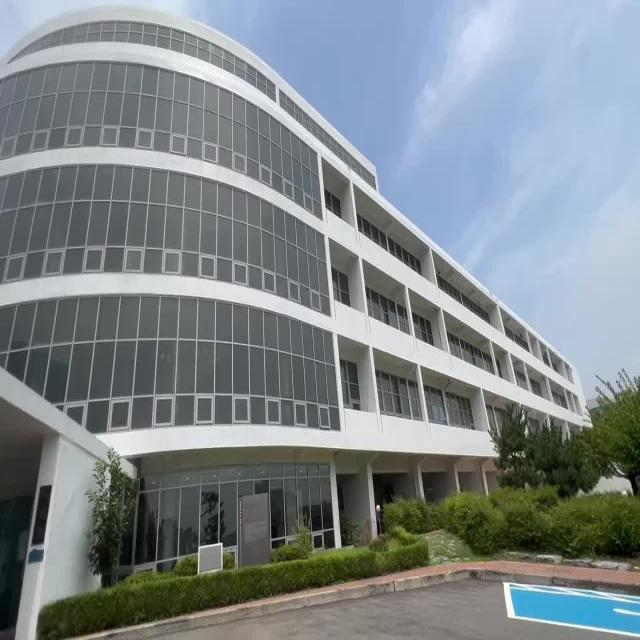building: (26, 16, 407, 525)
